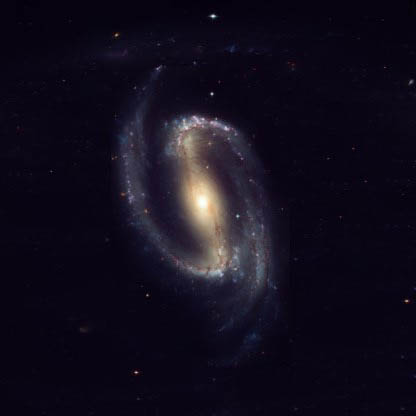NGC 1300: (103, 61, 290, 369)
